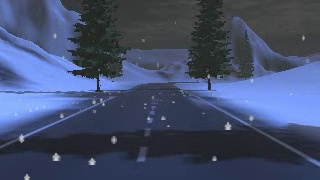Lane: (1, 82, 319, 179)
